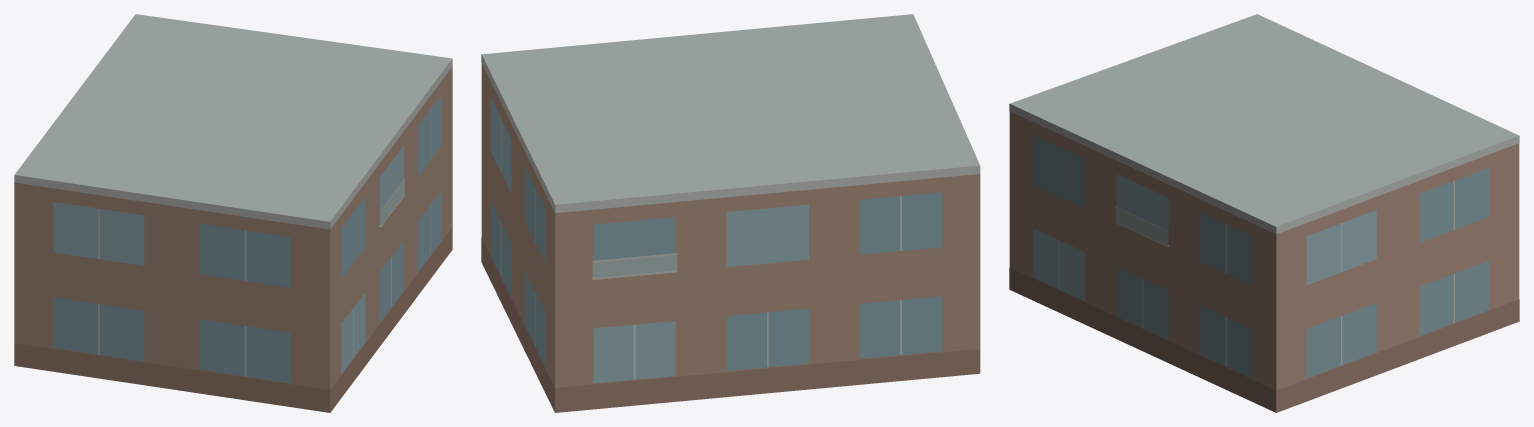
The model's file is survey-upis-32683199.glb.
3 renders of one model, left to right at view 1: azimuth 30°, elevation 25°; view 2: azimuth 150°, elevation 25°; view 3: azimuth 270°, elevation 25°, orthographic. The views are drawn at different scales.
Parts seen in each view (by area): view 1: survey-upis-32683199.tmp; view 2: survey-upis-32683199.tmp; view 3: survey-upis-32683199.tmp.
Part boxes in pixels (x1,y1,x2,y2): survey-upis-32683199.tmp: [14, 14, 452, 412]; survey-upis-32683199.tmp: [481, 14, 980, 412]; survey-upis-32683199.tmp: [1009, 14, 1519, 412].
Bounding box in the file's own units: 14.99 × 6.1 × 15.17.
